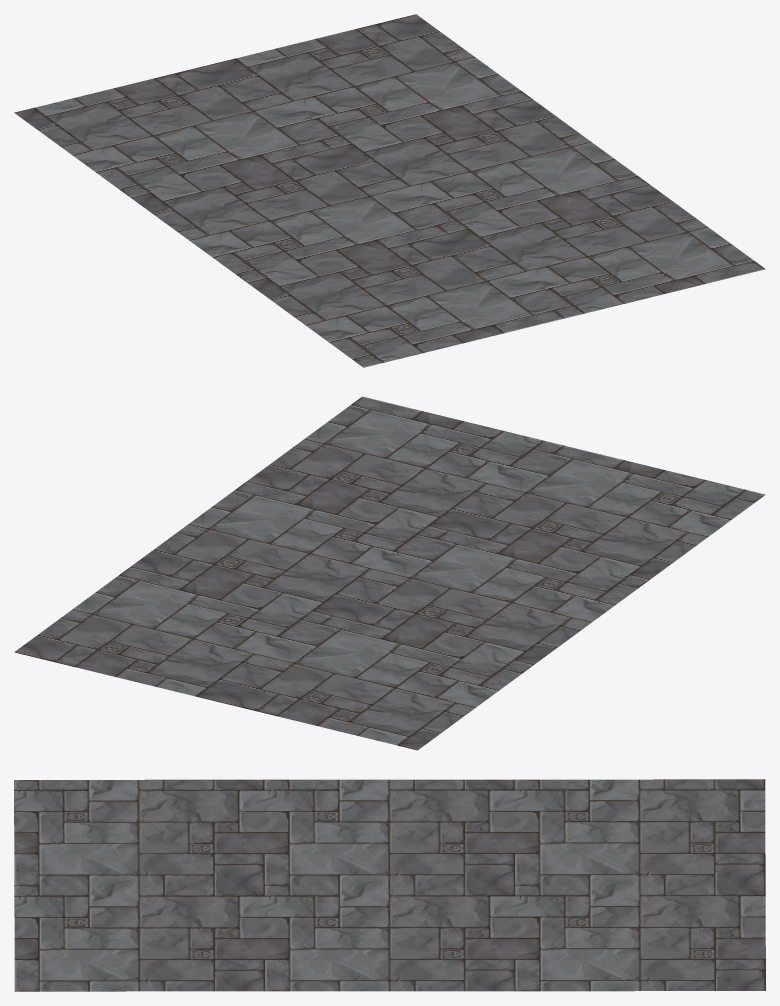
File: floor.glb
3 renders of one model, top to bottom at view 1: azimuth 30°, elevation 25°; view 2: azimuth 150°, elevation 25°; view 3: azimuth 270°, elevation 25°, orthographic. The views are drawn at different scales.
Visible parts, largest first — view 1: Object_2; view 2: Object_2; view 3: Object_2.
Boxes of the visible parts, left/top/right/bottom form: Object_2: left=14, top=14, right=765, bottom=367; Object_2: left=14, top=396, right=765, bottom=750; Object_2: left=14, top=779, right=765, bottom=991.
Size of the model in its own units: 5.67 by 1.89e-15 by 8.49.
1 material, 1 textured.
